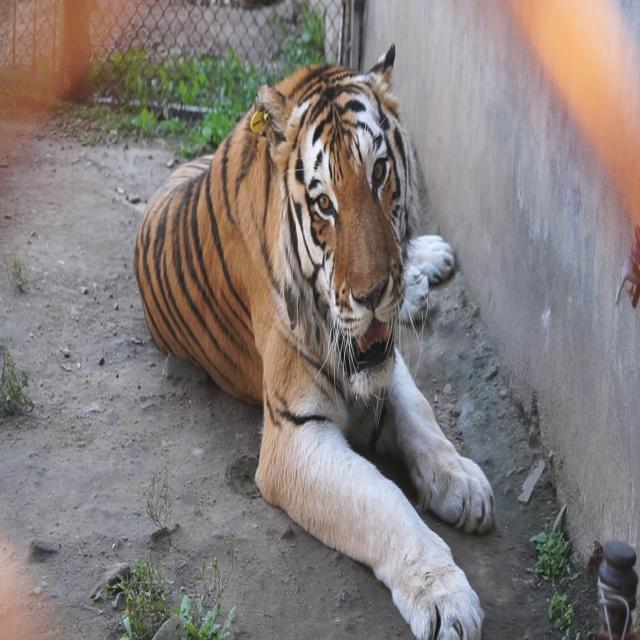Tiger: (115, 1, 524, 640)
